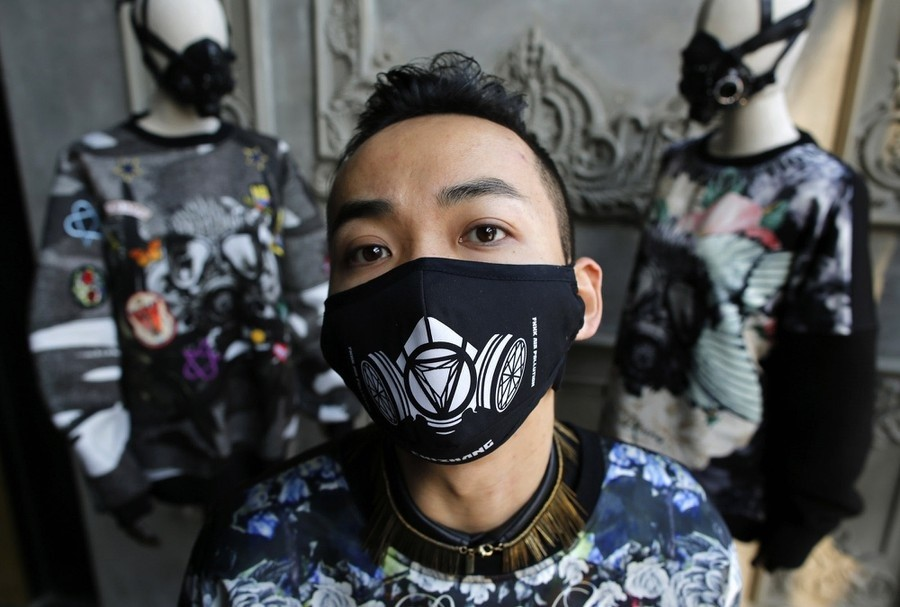face_with_mask: (300, 113, 603, 493)
